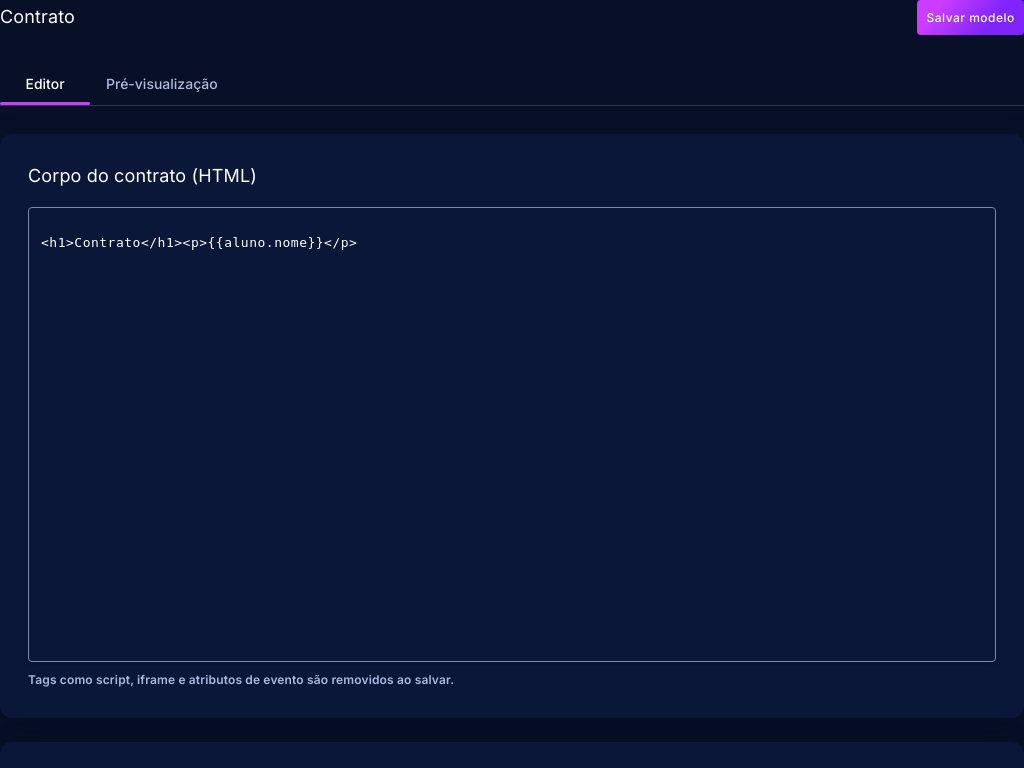
Test: ContractTemplatePage › confirms the save in a modal the user dismisses
Expected: the text box named "corpo do contrato em html" holds "<h1>Contrato</h1><p>{{aluno.nome}}</p>", [41, 233, 983, 653]
Click the button "Salvar modelo": [971, 18] box [917, 0, 1023, 35]
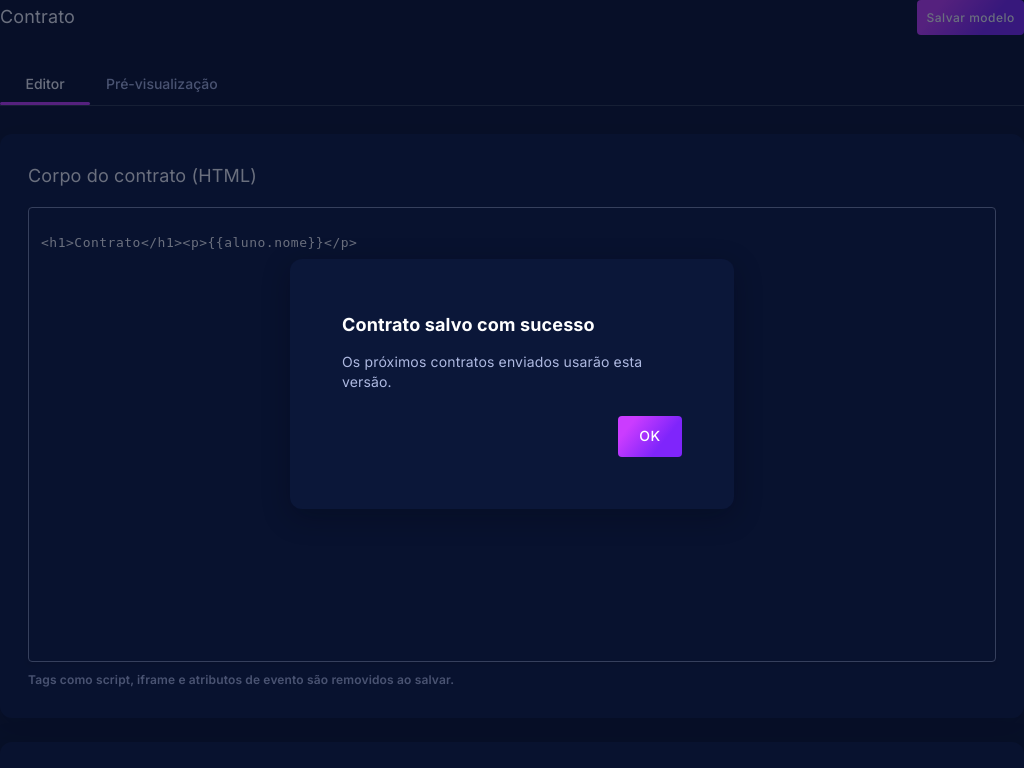
Now the heading "Contrato salvo com sucesso" is shown, box [342, 314, 595, 335]
Click the button "OK": [650, 436] box [618, 416, 682, 457]
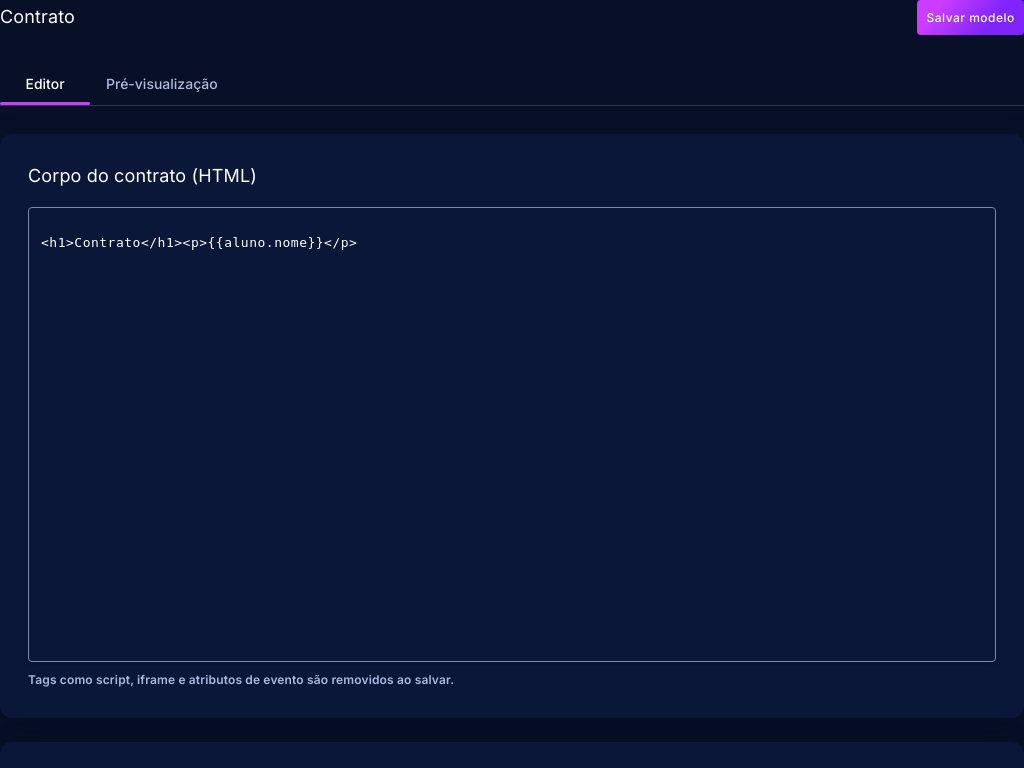
Now the dialog is gone
